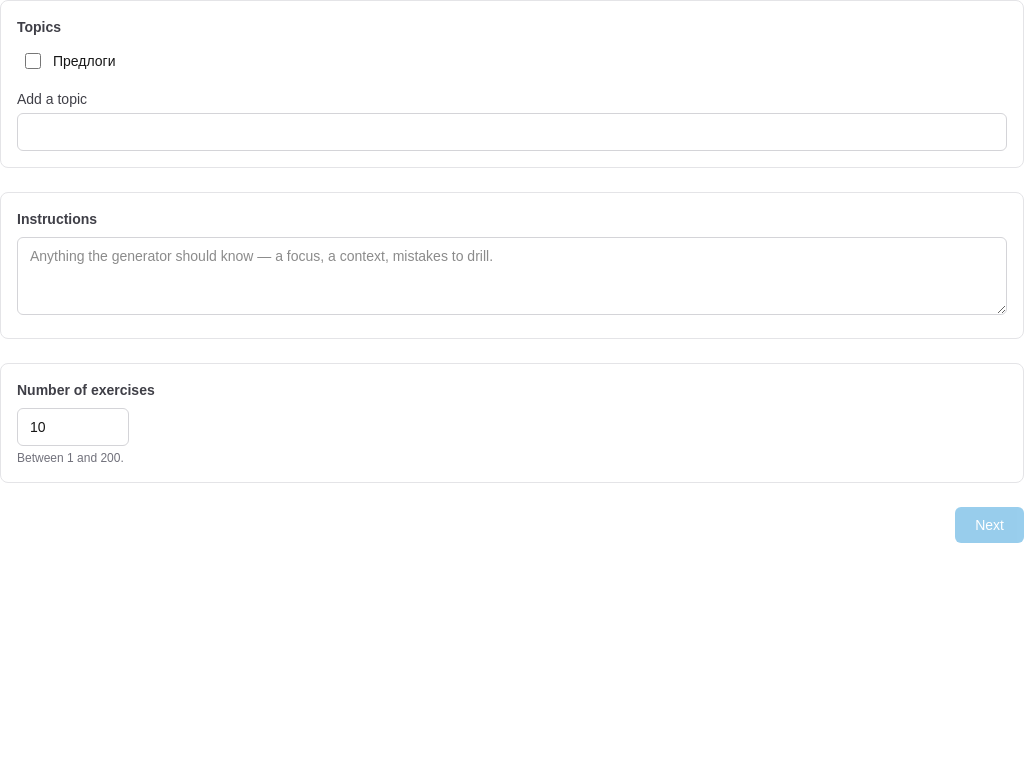
Scenario: WizardWhat › enables next once a topic is chosen, with no instructions
Click the checkbox labelled "Предлоги": coordinates (33, 61) [25, 53, 41, 69]
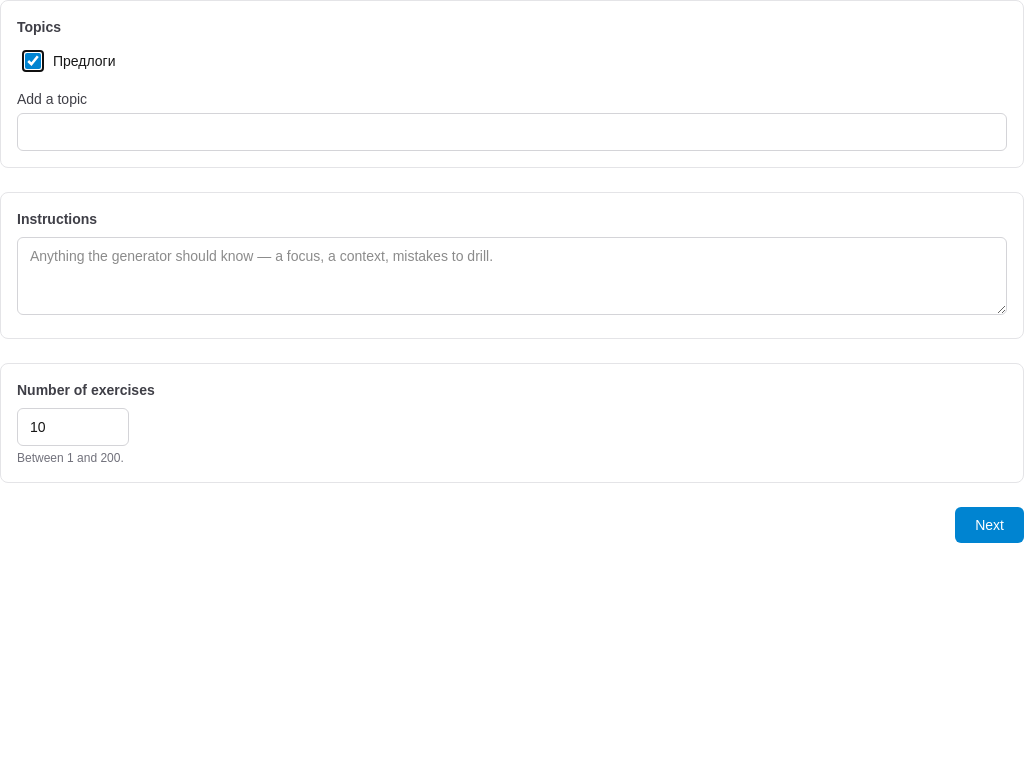
Result: the button "Next" is enabled at [955, 507, 1024, 543]
